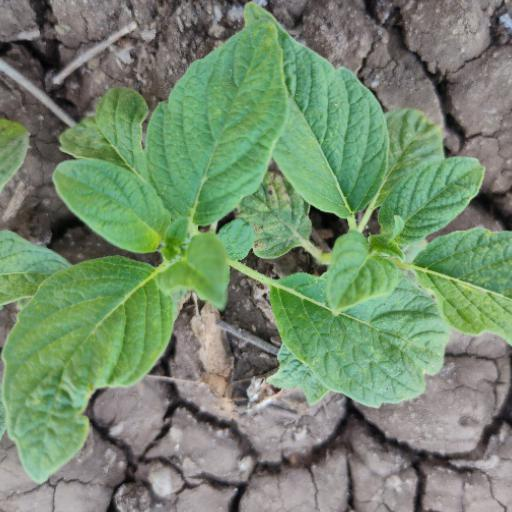crop: (12, 28, 502, 458)
